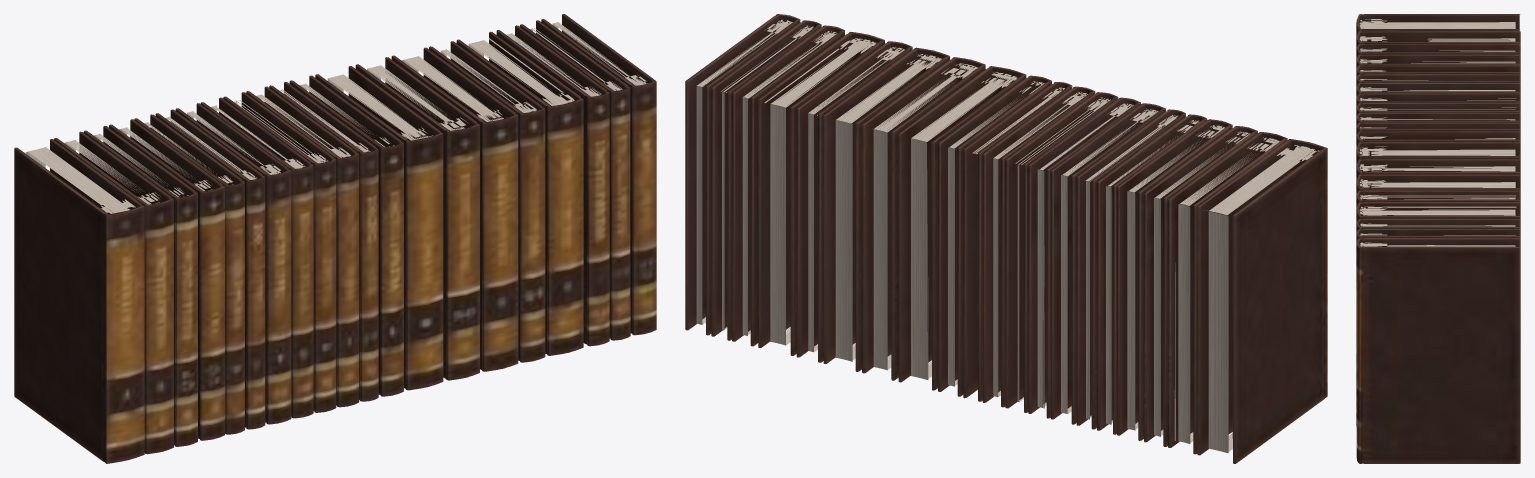
File: book_encyclopedia_set_01.glb
The picture shows the model from 3 angles, left to right: view 1: azimuth 30°, elevation 25°; view 2: azimuth 150°, elevation 25°; view 3: azimuth 270°, elevation 25°; orthographic projection. The views are drawn at different scales.
Visible parts, largest first — view 1: book_encyclopedia_set_01_book01, book_encyclopedia_set_01_book13, book_encyclopedia_set_01_book15, book_encyclopedia_set_01_book17, book_encyclopedia_set_01_book14, book_encyclopedia_set_01_book02, book_encyclopedia_set_01_book16, book_encyclopedia_set_01_book04, book_encyclopedia_set_01_book18, book_encyclopedia_set_01_book20, book_encyclopedia_set_01_book07, book_encyclopedia_set_01_book12 (+8 smaller); view 2: book_encyclopedia_set_01_book01, book_encyclopedia_set_01_book13, book_encyclopedia_set_01_book17, book_encyclopedia_set_01_book15, book_encyclopedia_set_01_book14, book_encyclopedia_set_01_book02, book_encyclopedia_set_01_book16, book_encyclopedia_set_01_book04, book_encyclopedia_set_01_book20, book_encyclopedia_set_01_book07, book_encyclopedia_set_01_book18, book_encyclopedia_set_01_book12 (+8 smaller); view 3: book_encyclopedia_set_01_book20, book_encyclopedia_set_01_book17, book_encyclopedia_set_01_book13, book_encyclopedia_set_01_book01, book_encyclopedia_set_01_book15, book_encyclopedia_set_01_book14, book_encyclopedia_set_01_book02, book_encyclopedia_set_01_book16, book_encyclopedia_set_01_book03, book_encyclopedia_set_01_book12, book_encyclopedia_set_01_book04, book_encyclopedia_set_01_book07 (+8 smaller).
Part boxes in pixels (box(x1,y1,x2,y2)): book_encyclopedia_set_01_book01: box(14, 139, 144, 463); book_encyclopedia_set_01_book13: box(315, 66, 443, 390); book_encyclopedia_set_01_book15: box(391, 47, 518, 371); book_encyclopedia_set_01_book17: box(456, 31, 583, 355); book_encyclopedia_set_01_book14: box(355, 57, 479, 380); book_encyclopedia_set_01_book02: box(54, 131, 173, 454); book_encyclopedia_set_01_book16: box(429, 41, 545, 362); book_encyclopedia_set_01_book04: box(109, 119, 224, 440); book_encyclopedia_set_01_book18: box(496, 25, 609, 346); book_encyclopedia_set_01_book20: box(541, 14, 656, 335); book_encyclopedia_set_01_book07: box(175, 103, 291, 424); book_encyclopedia_set_01_book12: box(289, 75, 403, 396); book_encyclopedia_set_01_book01: box(1197, 139, 1327, 463); book_encyclopedia_set_01_book13: box(898, 66, 1026, 390); book_encyclopedia_set_01_book17: box(757, 32, 884, 355); book_encyclopedia_set_01_book15: box(823, 47, 949, 371); book_encyclopedia_set_01_book14: box(861, 57, 985, 380); book_encyclopedia_set_01_book02: box(1168, 132, 1287, 454); book_encyclopedia_set_01_book16: box(796, 41, 912, 362); book_encyclopedia_set_01_book04: box(1117, 119, 1232, 440); book_encyclopedia_set_01_book20: box(685, 14, 800, 335); book_encyclopedia_set_01_book07: box(1050, 103, 1165, 424); book_encyclopedia_set_01_book18: box(732, 25, 844, 346); book_encyclopedia_set_01_book12: box(938, 75, 1051, 396); book_encyclopedia_set_01_book20: box(1356, 238, 1520, 463); book_encyclopedia_set_01_book17: box(1356, 202, 1520, 425); book_encyclopedia_set_01_book13: box(1356, 142, 1520, 189); book_encyclopedia_set_01_book01: box(1356, 14, 1520, 35); book_encyclopedia_set_01_book15: box(1356, 174, 1520, 194); book_encyclopedia_set_01_book14: box(1356, 159, 1520, 181); book_encyclopedia_set_01_book02: box(1356, 30, 1520, 47); book_encyclopedia_set_01_book16: box(1356, 190, 1520, 219); book_encyclopedia_set_01_book03: box(1356, 43, 1520, 58); book_encyclopedia_set_01_book12: box(1356, 131, 1520, 190); book_encyclopedia_set_01_book04: box(1356, 54, 1520, 77); book_encyclopedia_set_01_book07: box(1356, 82, 1520, 97).
Size of the model in its own units: 0.5513 by 0.2374 by 0.1636.
2 materials, 2 textured.
